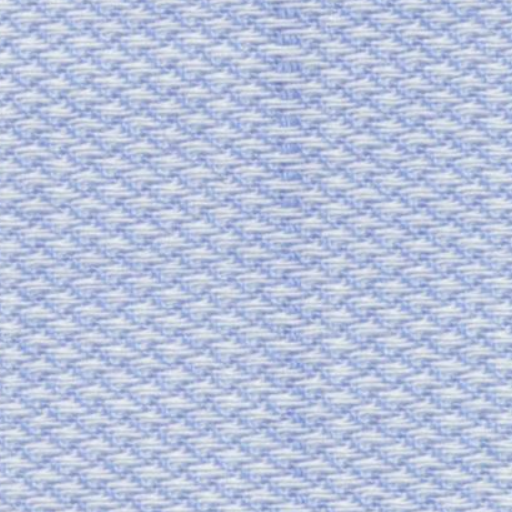TuoSha: (242, 18, 352, 498)
